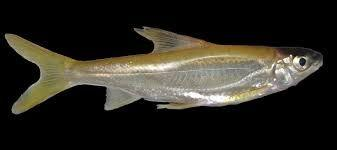Fourfinger Threadfish: (4, 25, 324, 116)
